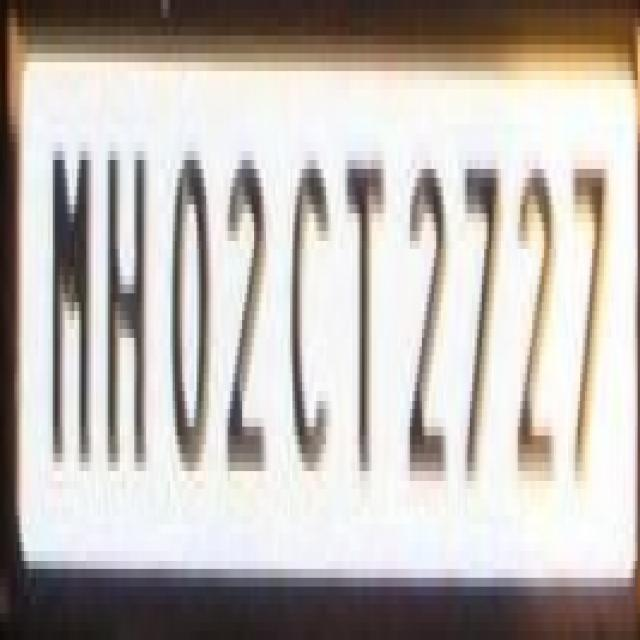0: (163, 145, 212, 508)
2: (222, 134, 271, 496), (404, 148, 450, 484), (514, 164, 558, 484)
7: (566, 152, 610, 488), (460, 146, 501, 483)
C: (286, 143, 332, 482)
H: (102, 136, 150, 486)
M: (48, 134, 93, 476)
T: (340, 143, 386, 493)
